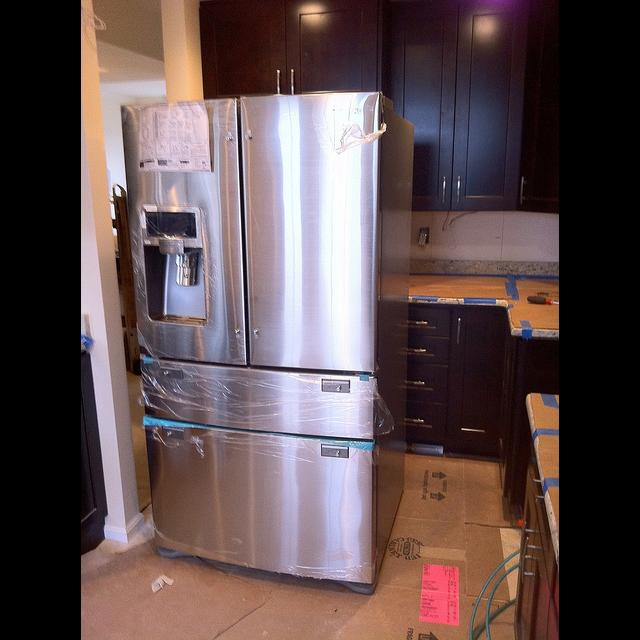Refrigerator: (123, 96, 413, 591)
